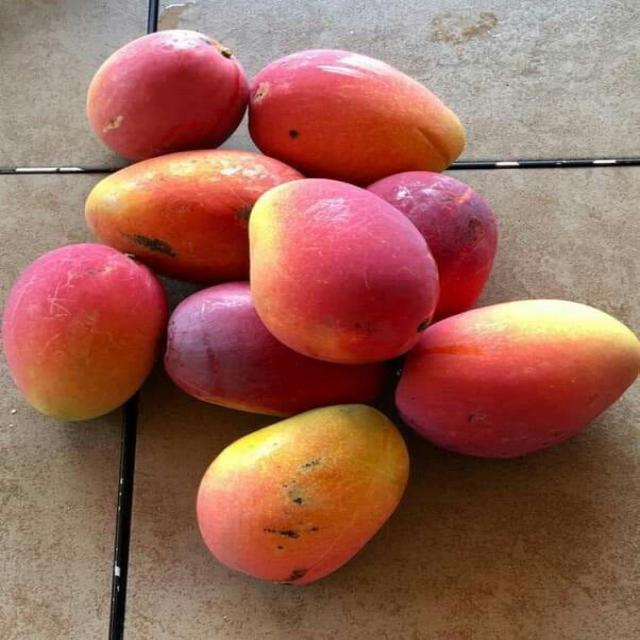mango: (397, 300, 639, 457), (197, 405, 408, 584), (250, 179, 439, 363), (165, 283, 385, 416), (249, 50, 464, 184), (86, 151, 301, 284), (3, 245, 166, 420), (88, 30, 248, 160), (368, 172, 497, 319)
